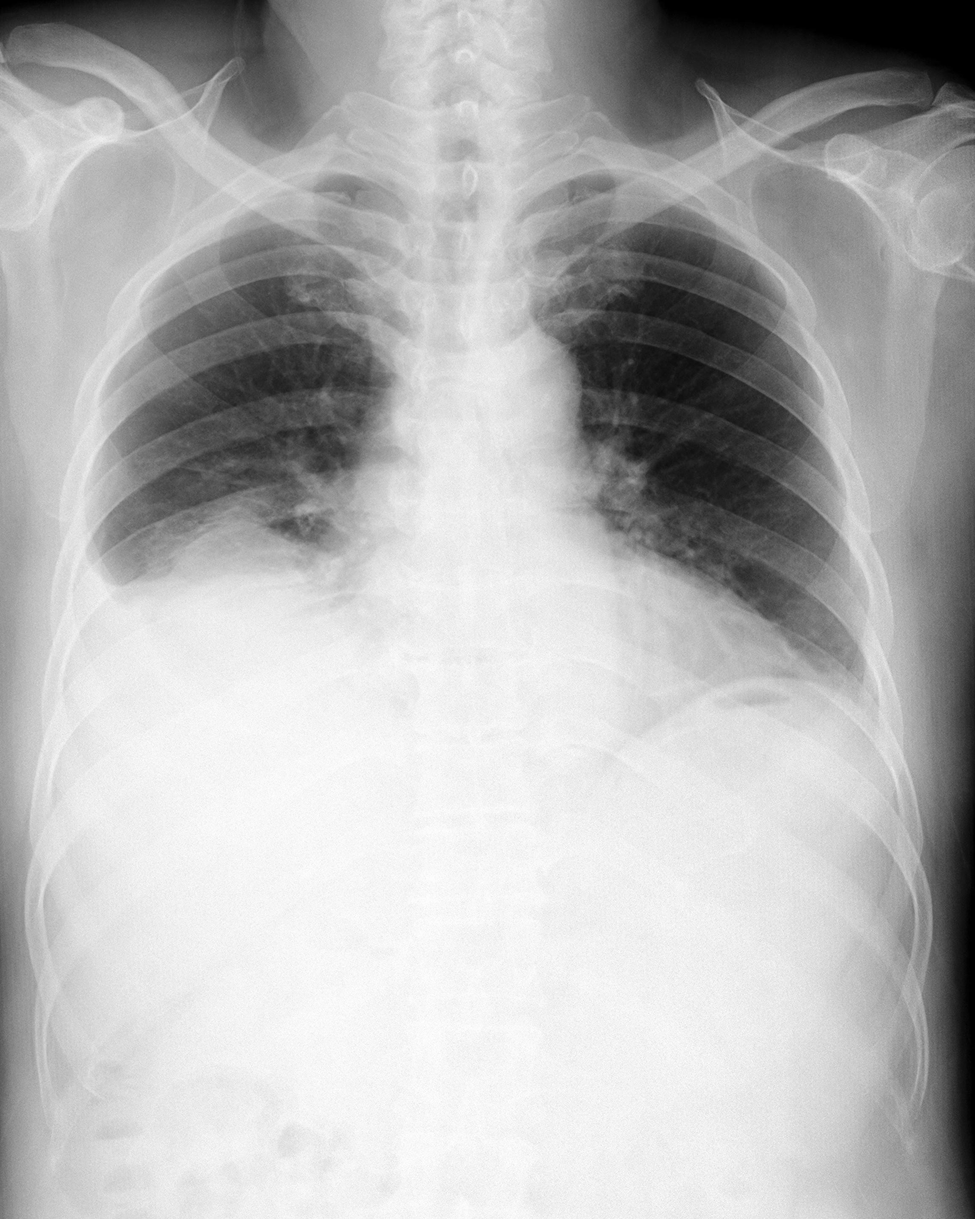Cardiomegaly: (311, 519, 826, 784)
